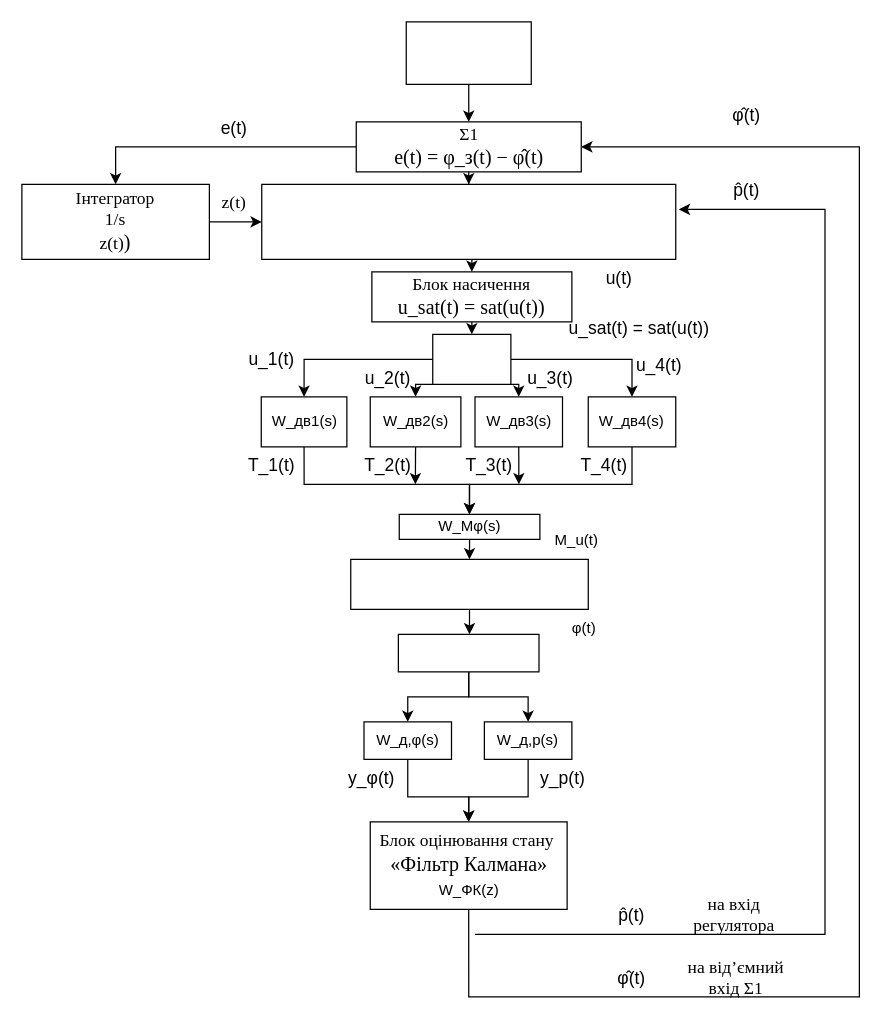
Image size: 891x1029. Some labels were removed from this diagram. Here are the shapes that lost their labels. From the top down, the centre of each, then its label:
At point (468, 52): "Задавальний пристрій φ_з(t)".
At point (468, 221): "Регулятор W_р(s) u(t) = k_φ e(t) + k_z z(t) − k_p p̂(t)".
At point (471, 358): "W_розп(s)".
At point (469, 583): "Σ2: M_φ(t) = M_u(t) + M_d(t)".
At point (468, 652): "W_о,крен(s)".
